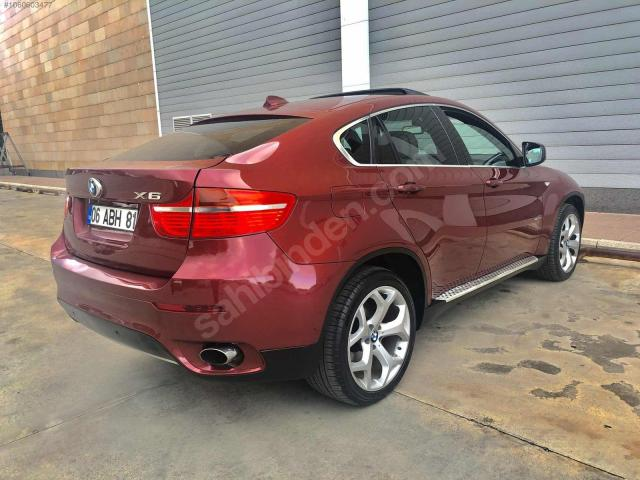plaka: (88, 204, 138, 232)
